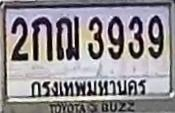2: (10, 17, 27, 60)
3: (87, 16, 103, 59), (128, 15, 144, 58)
9: (107, 15, 123, 59), (147, 14, 163, 58)
A01: (31, 16, 52, 60)
A12: (55, 15, 79, 60)
BKK: (27, 74, 150, 99)
